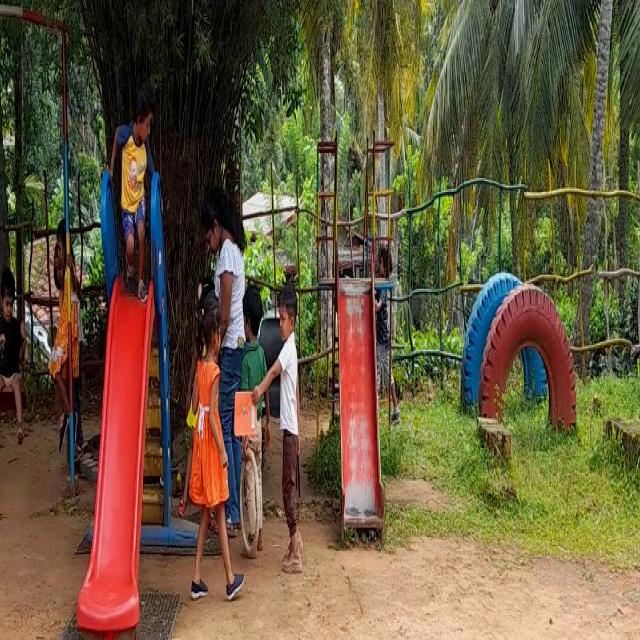child: (190, 290, 230, 620), (275, 282, 310, 552), (233, 280, 263, 550), (122, 85, 157, 276), (0, 259, 27, 429)
